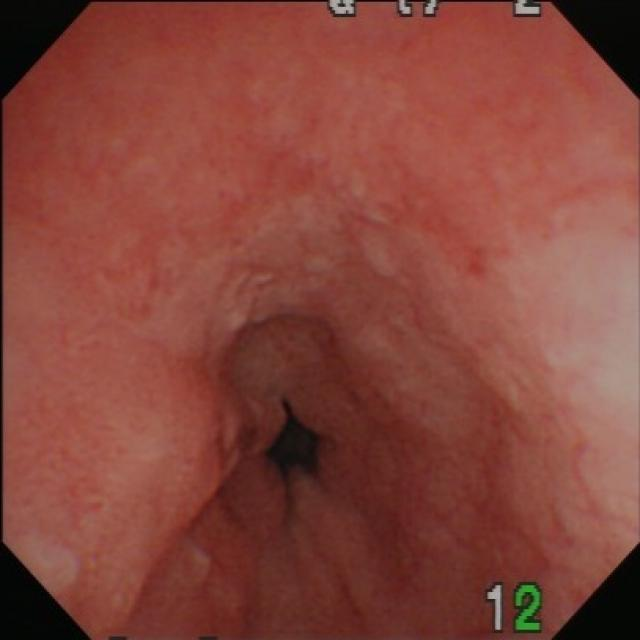A: (331, 275, 526, 461)
B: (67, 350, 246, 634)
D: (402, 186, 499, 285)
E: (254, 393, 333, 495)
S: (325, 3, 545, 20), (485, 581, 547, 636)
